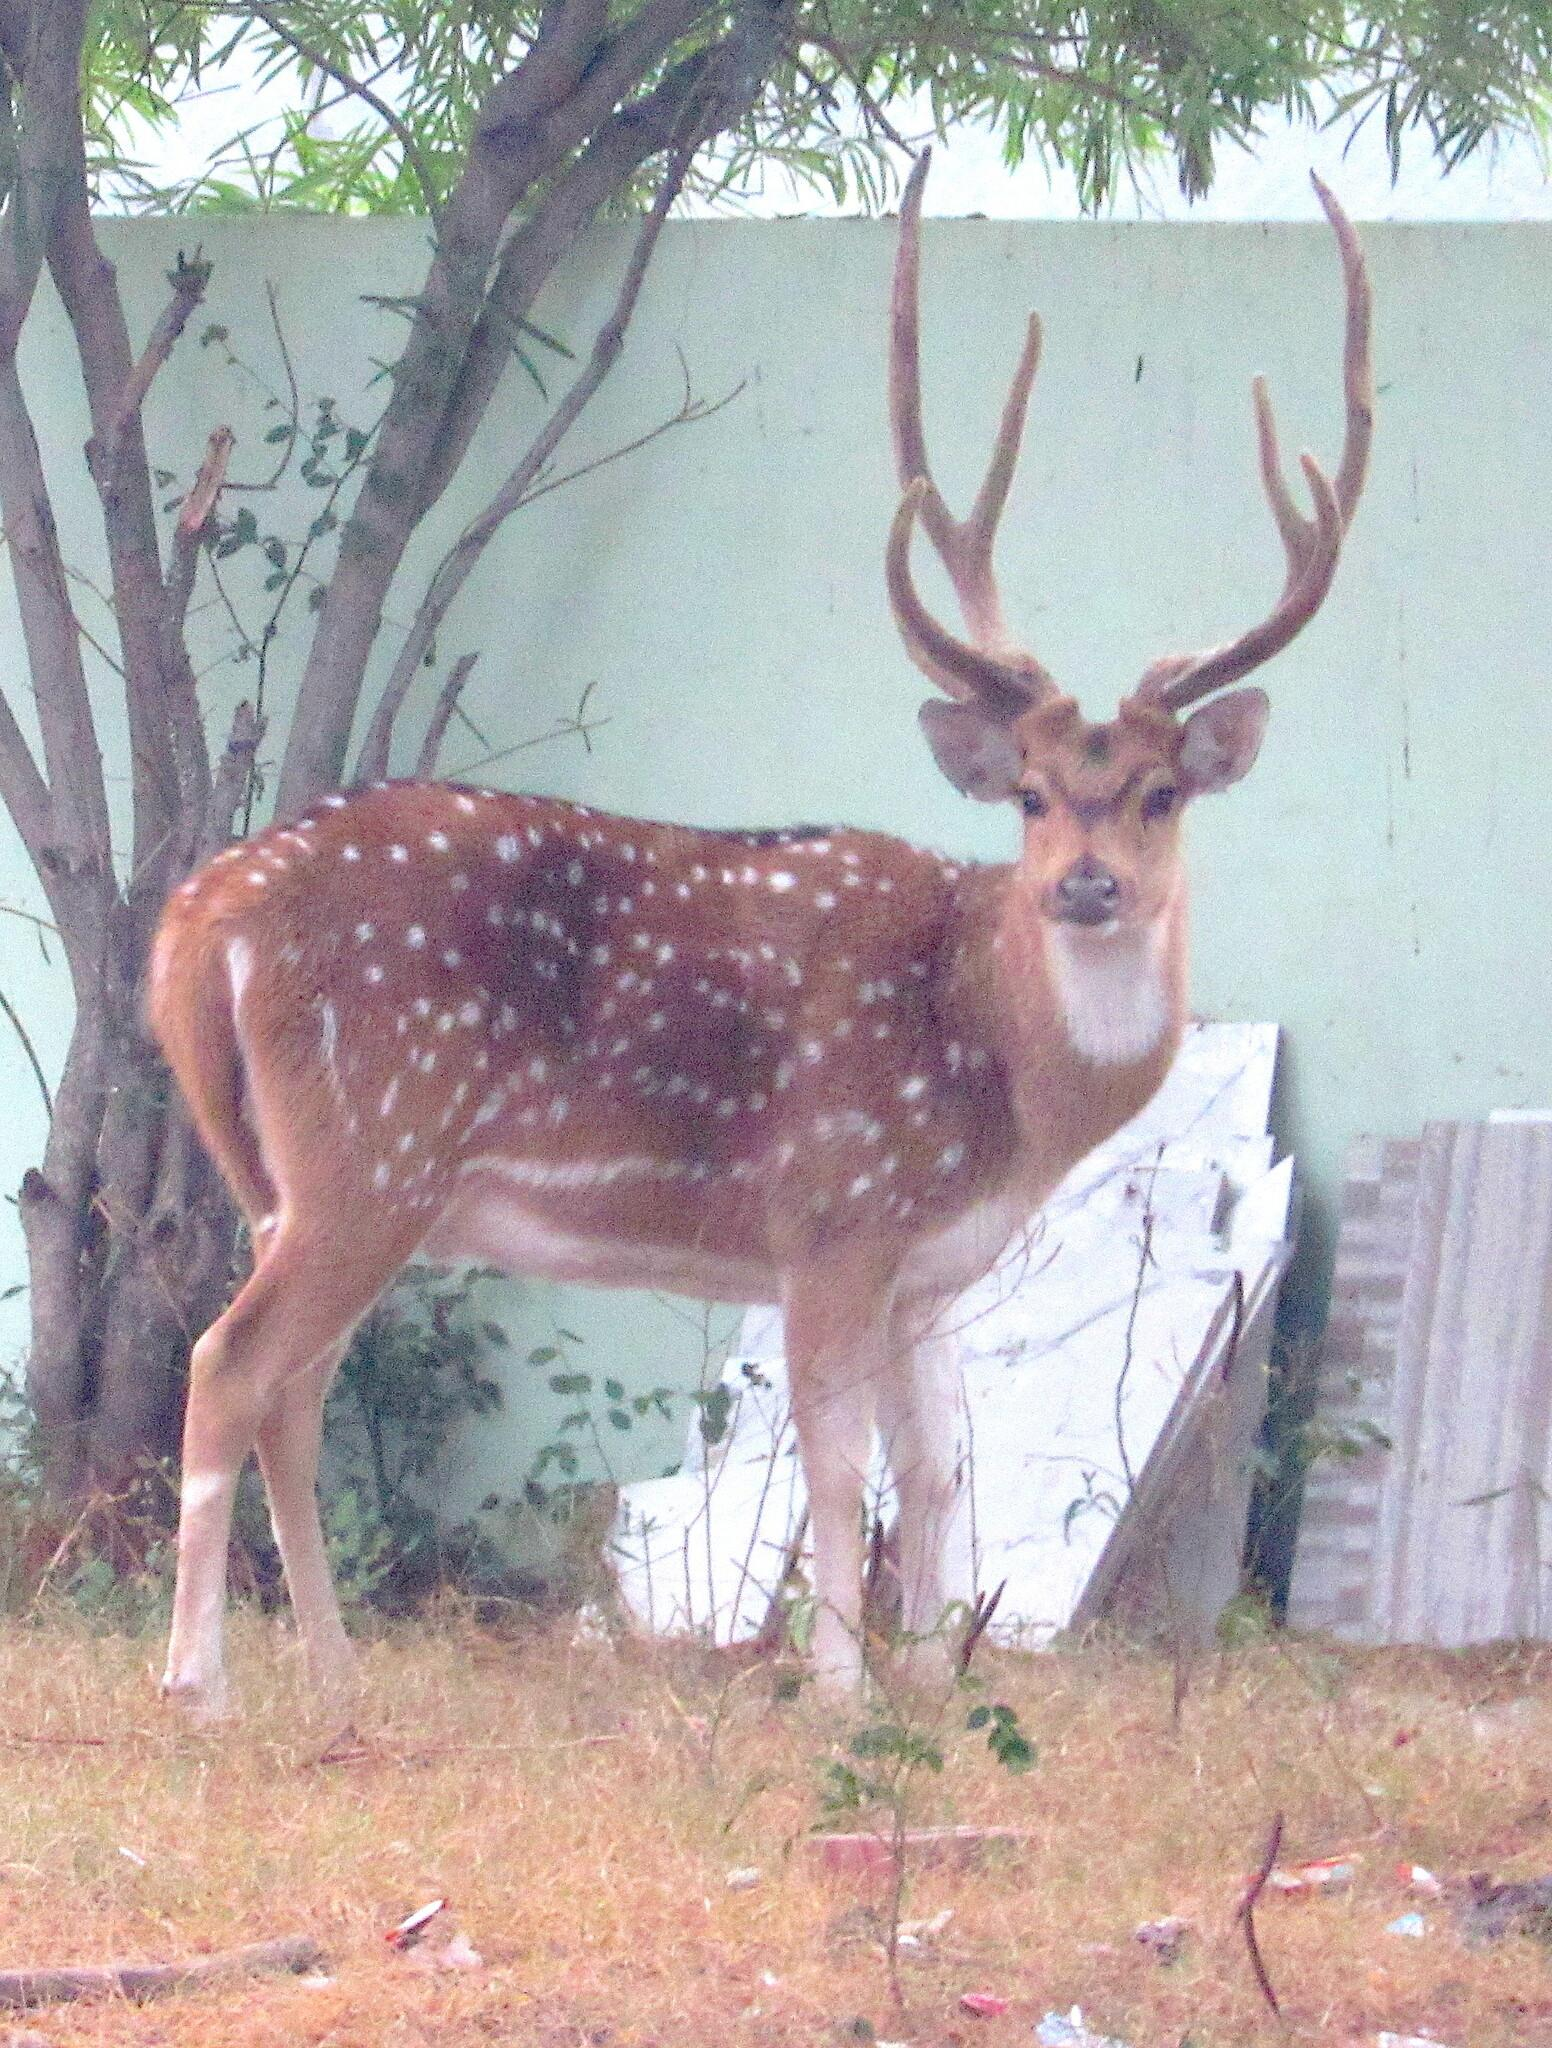Deer: (148, 165, 1373, 1707)
